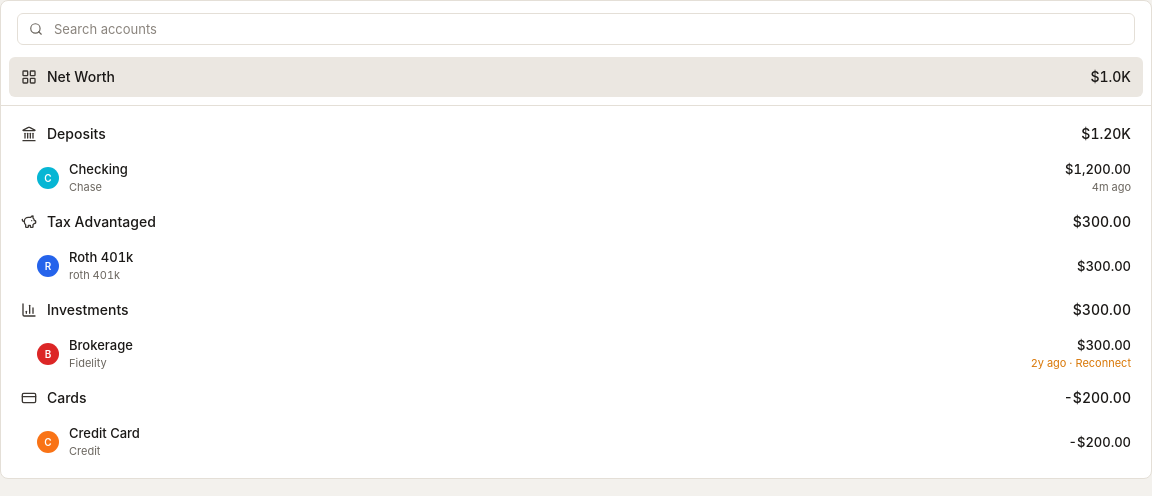
it: AccountSidebar › moves configured subtypes into the tax-advantaged group
Step 1. Click the button named "Collapse Investments accounts" → x=29, y=310, box [21,302,37,318]
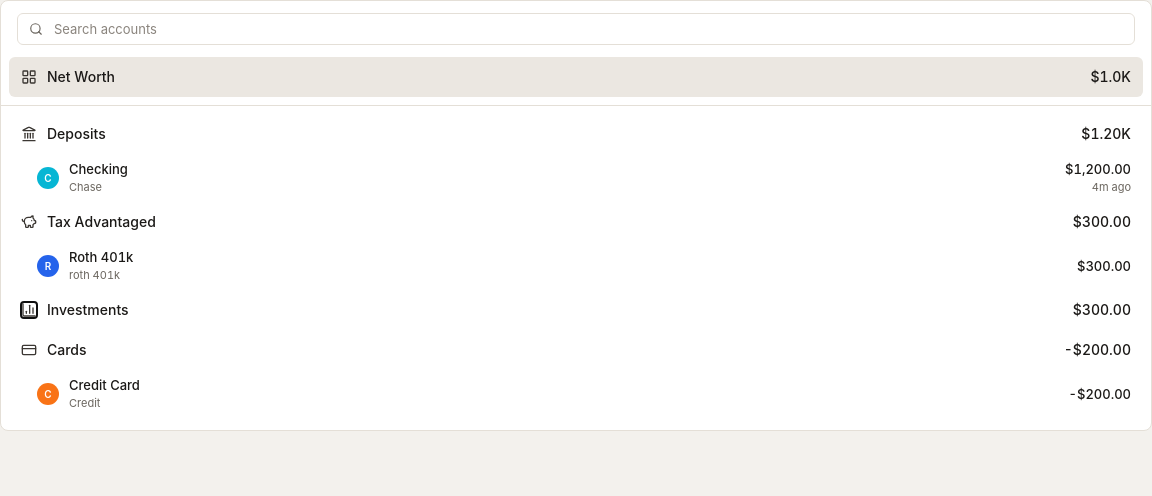
Expected: the text "Roth 401k" is shown, [69,249,133,265]
Expected: the text "Brokerage" is gone
Step 2. Click the button named "Expand Investments accounts" → x=29, y=310, box [21,302,37,318]
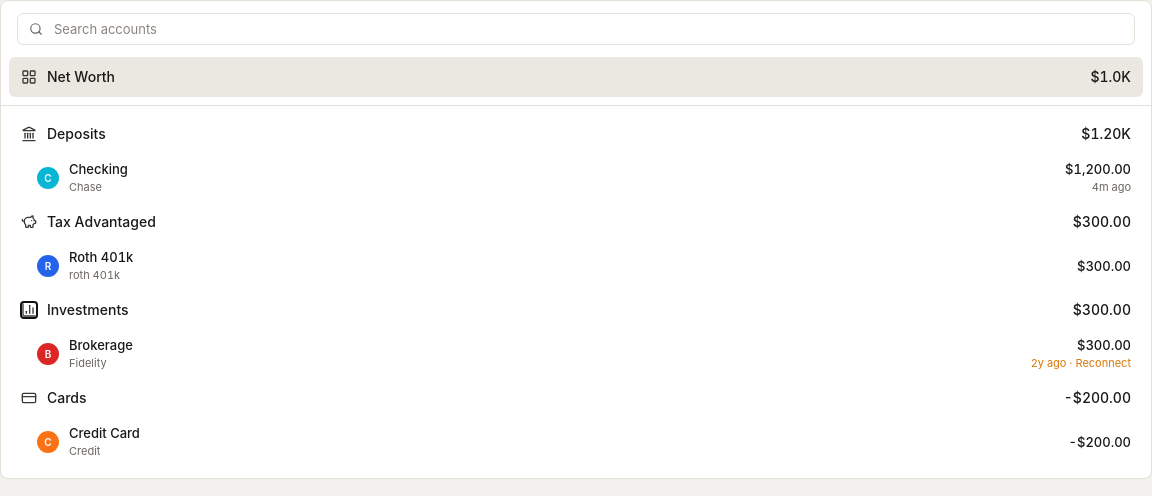
Expected: the text "Brokerage" is shown, [69,337,133,353]
